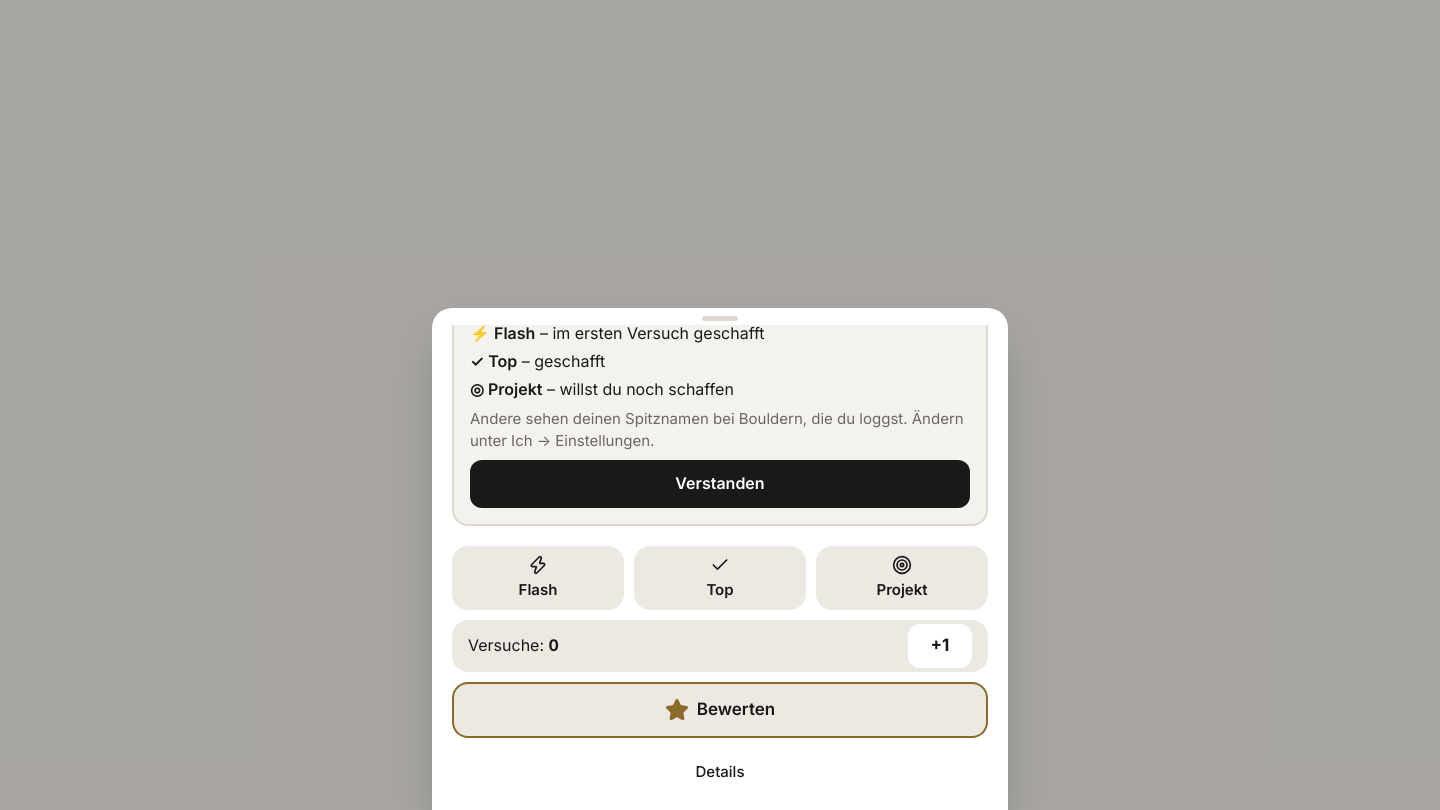
Test: SPEC-003 AC-15 & AC-16: Instant Multi-User Rating Sync & Community Reviews › Community Reviews UI in BoulderSheet (AC-16) › renders community reviews list showing what friends rated (stars, feel, ascent style)
This screenshot has width=1440, height=810.
(page scrolled)
Click the button with test id "boulder-sheet-more" at (720, 772), box [452,750,988,794]
(page scrolled)
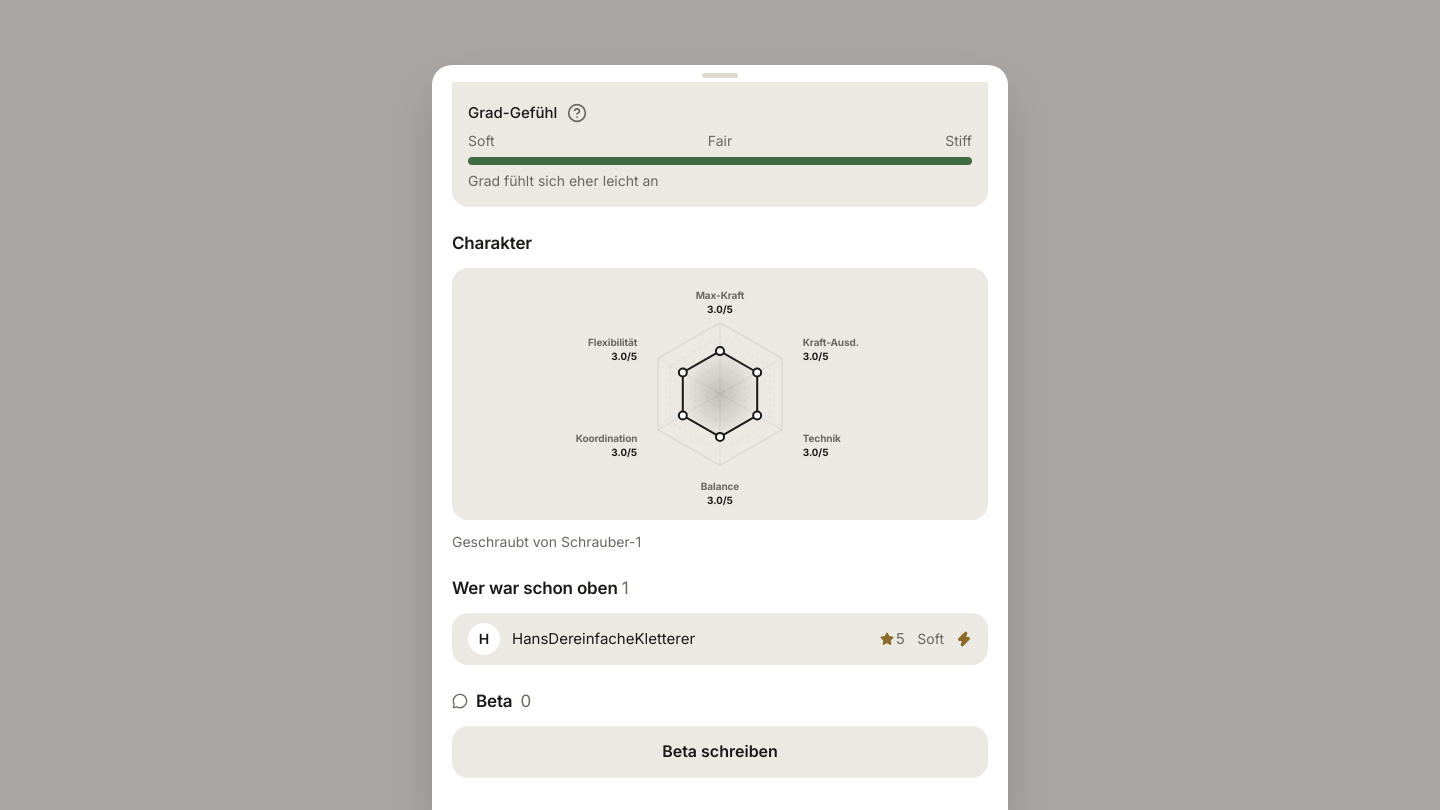
Expected: the element with test id "community-ratings-section" is shown, [452,576,988,665]
Expected: the heading "Wer war schon oben 1" is shown, [452,578,628,598]
Expected: the button with test id "community-rating-row-hans-kletterer" shows "HansDereinfacheKletterer", [452,613,988,665]
